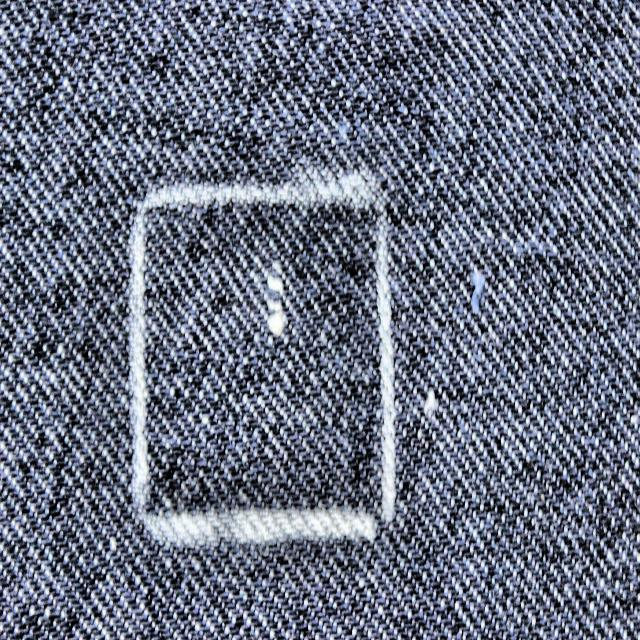Hole: (265, 267, 284, 341)
